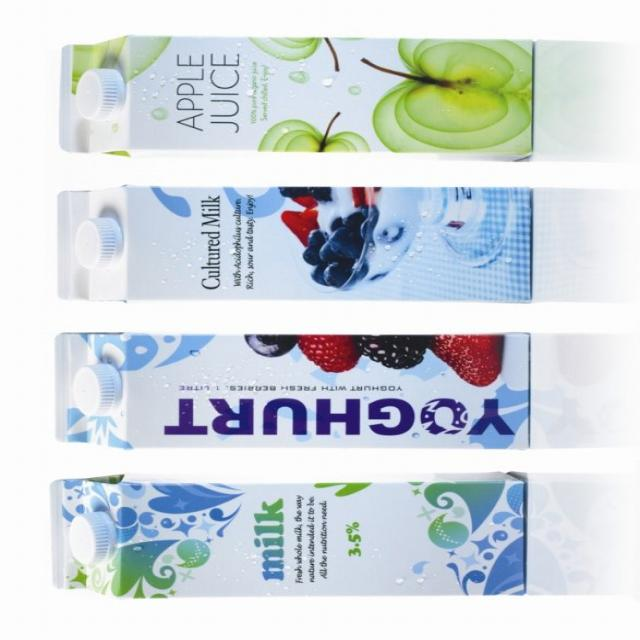non_white_jug: (54, 30, 537, 165), (44, 476, 537, 602), (49, 328, 536, 453), (55, 180, 537, 306)
